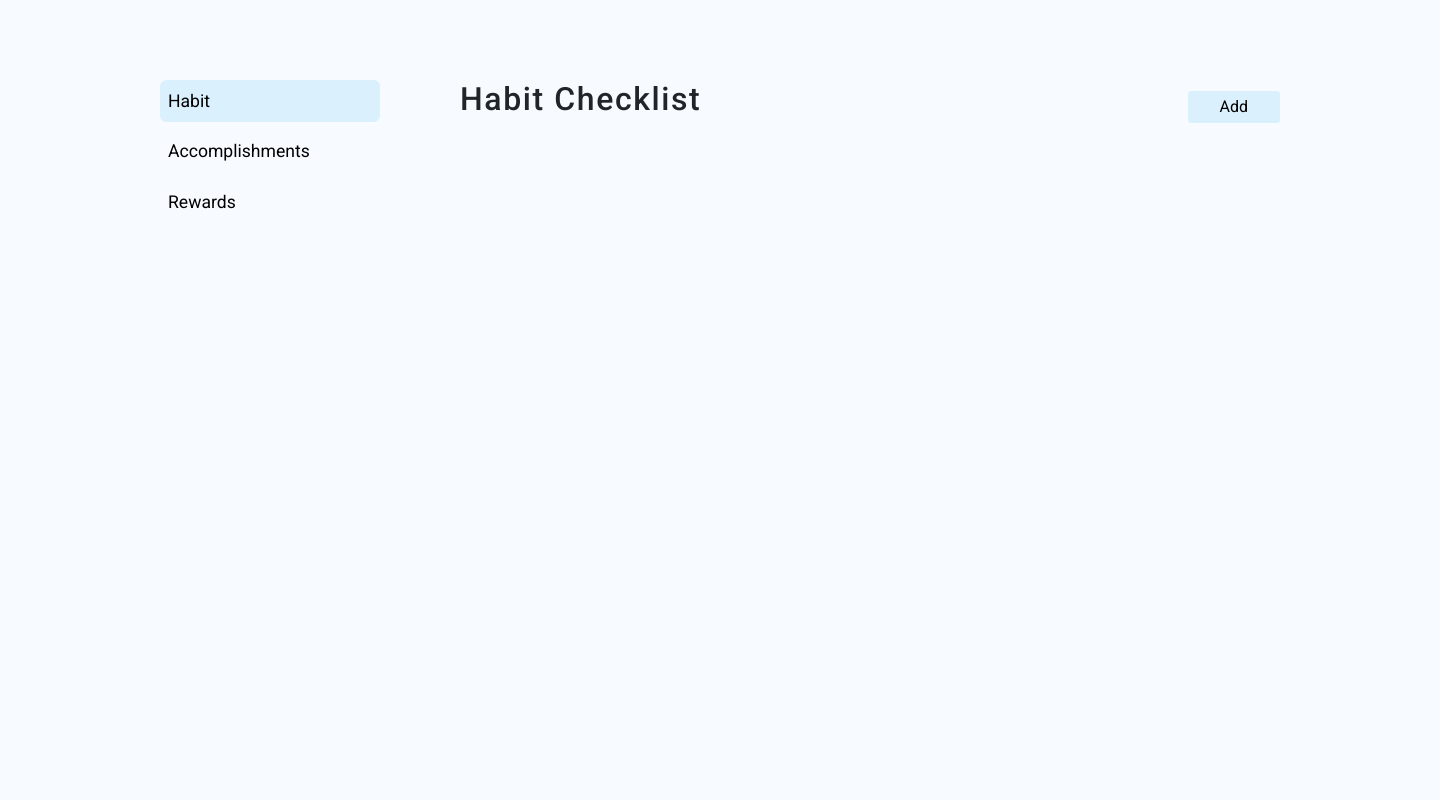
Test: habit dashboard › should display habit card when new habit is added
The width and height of the screenshot is (1440, 800).
Click the button with id "habit-add-btn" at [1235, 107], box top-left (1188, 91), bottom-right (1281, 123)
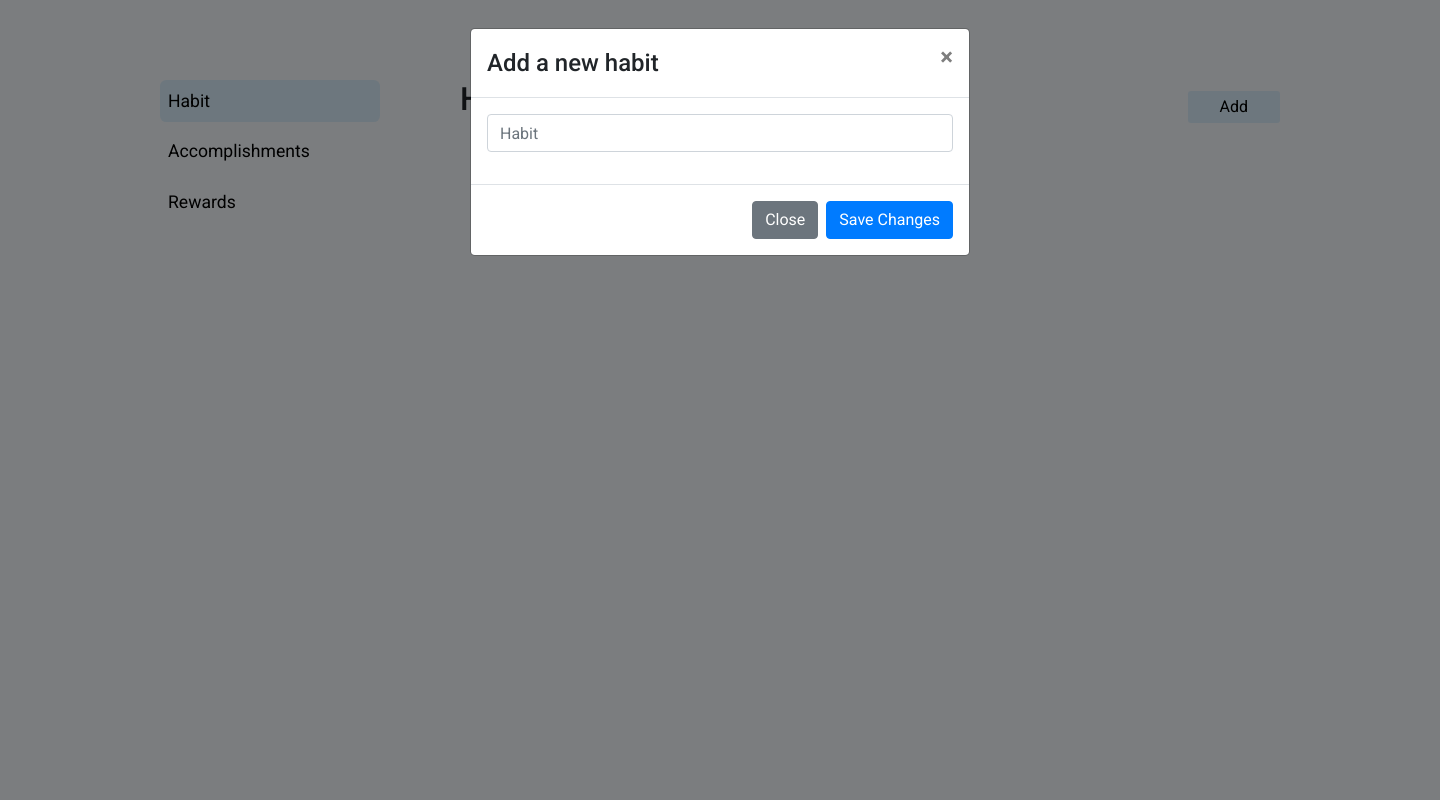
Type "Drink a cup of water" into the field with placeholder "Habit" at [720, 133], box top-left (487, 114), bottom-right (953, 152)
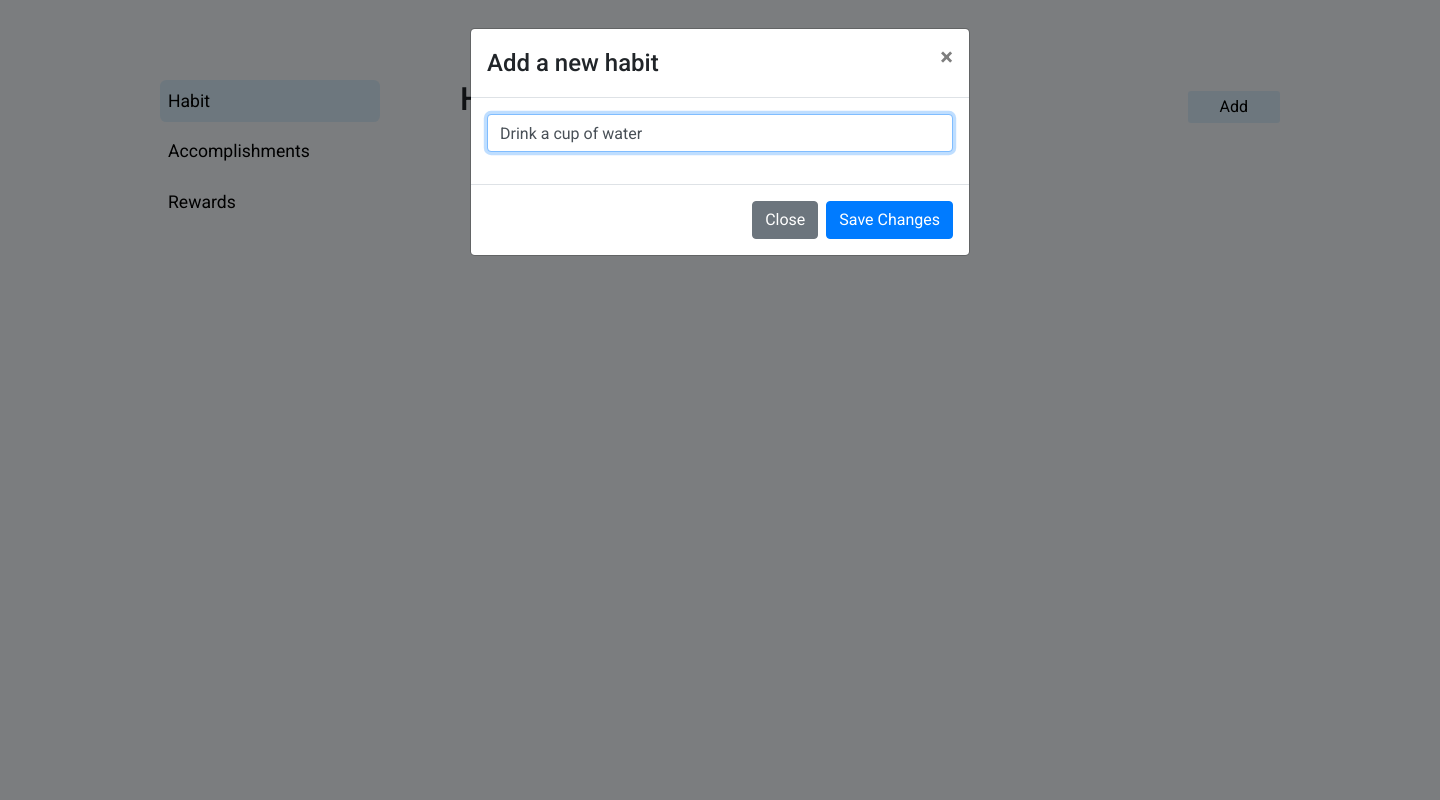
Click the button "Save Changes" at [890, 220], box top-left (826, 201), bottom-right (953, 239)
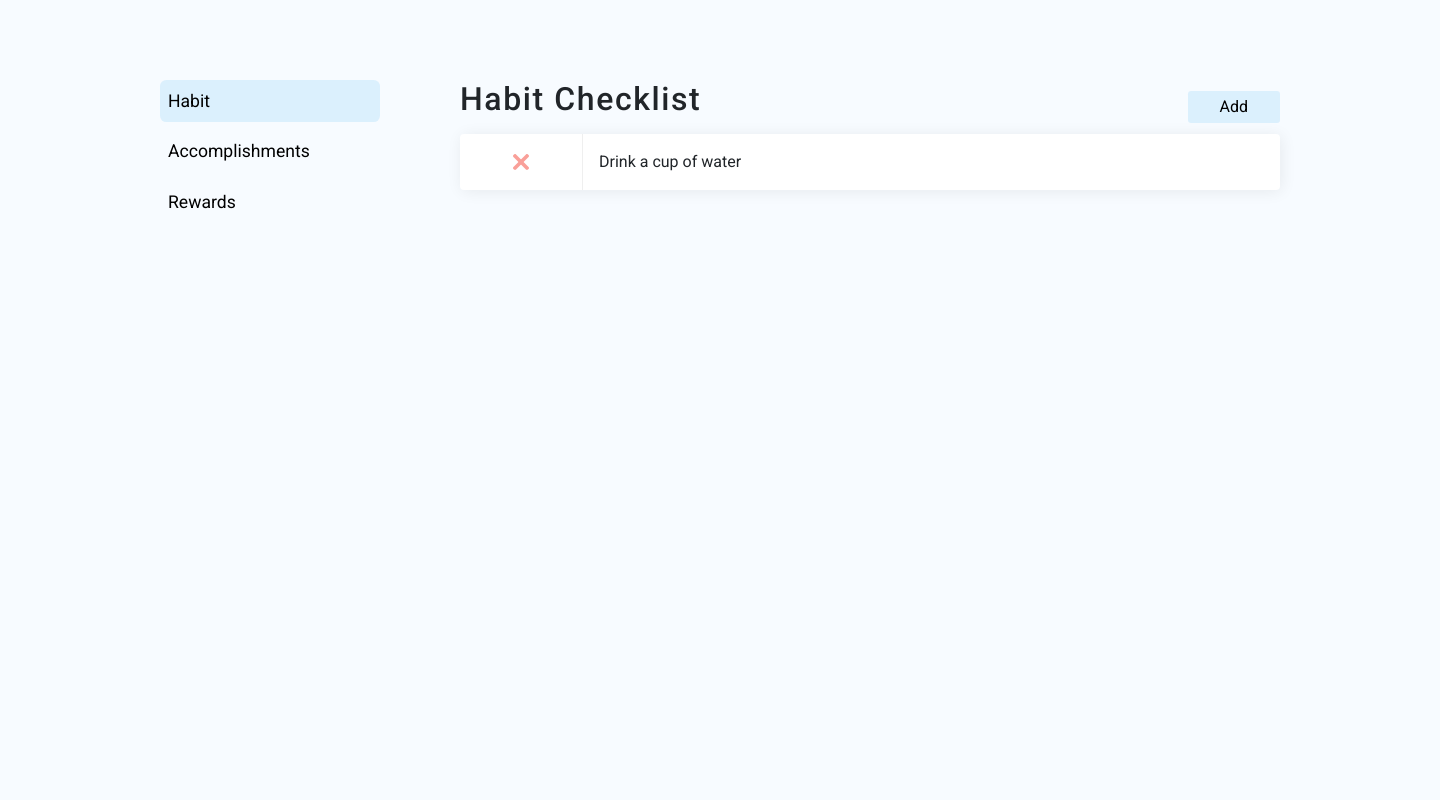
Result: the text "Drink a cup of water" is shown at top-left (599, 152), bottom-right (741, 171)
